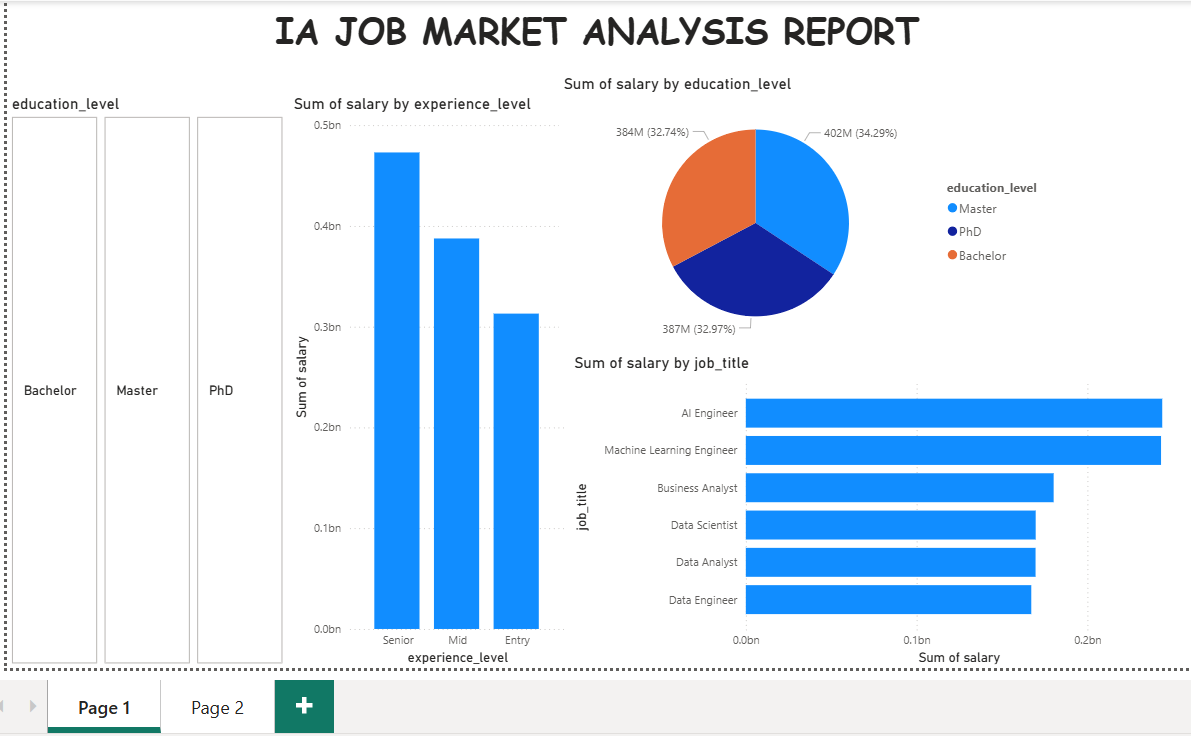

The page's visual inventory and layout, read from the dashboard file:
{"tool":"powerbi","page":{"name":"Page 1","canvas":[1280,720],"ordinal":0},"visuals":[{"type":"columnChart","fields":{"Category":["clean_jobs_data.experience_level"],"Y":["Sum(clean_jobs_data.salary)"]},"box":[304.4,100.4,302.8,620.2],"z":0},{"type":"pieChart","fields":{"Category":["clean_jobs_data.education_level"],"Y":["Sum(clean_jobs_data.salary)"]},"box":[595.3,79.4,536.7,300.5],"z":1000},{"type":"clusteredBarChart","fields":{"Category":["clean_jobs_data.job_title"],"Y":["Sum(clean_jobs_data.salary)"]},"box":[607.2,380.5,672,340],"z":2000},{"type":"advancedSlicerVisual","fields":{"Values":["clean_jobs_data.education_level"]},"box":[0,100.4,304.4,620.2],"z":3000},{"type":"textbox","box":[100.2,0,1073.4,64.3],"z":4000}]}

Visuals, with their boxes on the page's 1280x720 design canvas (x1, y1, x2, y2). These are canvas units, not pixel positions in the 1191x736 screenshot, which may show the page scaled, cropped or inside an application window:
columnChart - clean_jobs_data.experience_level x Sum(clean_jobs_data.salary): [x1=304, y1=100, x2=607, y2=721]
pieChart - clean_jobs_data.education_level x Sum(clean_jobs_data.salary): [x1=595, y1=79, x2=1132, y2=380]
clusteredBarChart - clean_jobs_data.job_title x Sum(clean_jobs_data.salary): [x1=607, y1=380, x2=1279, y2=720]
advancedSlicerVisual - clean_jobs_data.education_level: [x1=0, y1=100, x2=304, y2=721]
textbox: [x1=100, y1=0, x2=1174, y2=64]
